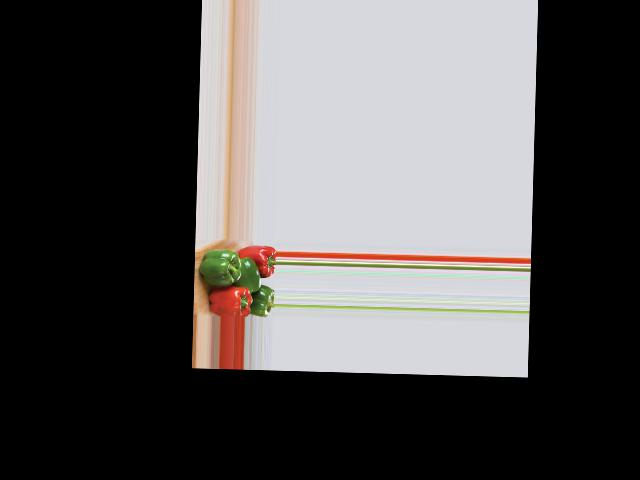bell_pepper: (204, 283, 251, 317)
